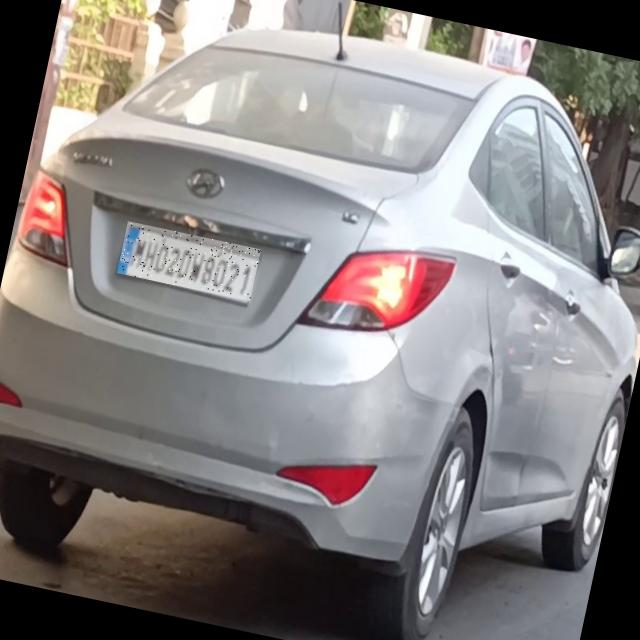Plate: (118, 222, 262, 302)
